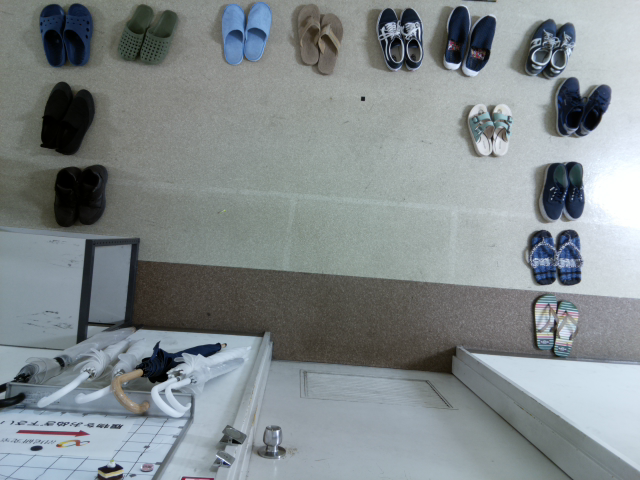Copy of Copy of Copy of Copy of Copy of Copy of Copy of Copy of Copy of shoes: (543, 77, 583, 137)
Copy of Copy of Copy of Copy of Copy of Copy of Copy of Copy of shoes: (574, 81, 611, 137)
Copy of Copy of Copy of Copy of Copy of Copy of Copy of sandal: (553, 299, 579, 357)
Copy of Copy of Copy of Copy of Copy of Copy of Copy of shoes: (542, 21, 577, 77)
Copy of Copy of Copy of Copy of Copy of Copy of sandal: (533, 293, 559, 350)
Copy of Copy of Copy of Copy of Copy of Copy of shoes: (524, 17, 559, 75)
Copy of Copy of Copy of Copy of Copy of sandal: (557, 228, 583, 286)
Copy of Copy of Copy of Copy of Copy of shoes: (461, 12, 498, 77)
Copy of Copy of Copy of Copy of sandal: (525, 228, 557, 285)
Copy of Copy of Copy of Copy of shoes: (442, 3, 472, 69)
Copy of Copy of Copy of sandal: (297, 2, 321, 65)
Copy of Copy of Copy of shoes: (41, 79, 75, 149), (401, 5, 424, 70)
Copy of Copy of Copy of slipper: (244, 1, 272, 62)
Copy of Copy of sandal: (316, 12, 344, 75)
Copy of Copy of shoes: (55, 87, 96, 155), (375, 6, 404, 72)
Copy of Copy of slipper: (220, 3, 246, 66)
Copy of sandal: (492, 102, 515, 156)
Copy of shoes: (79, 164, 109, 225), (563, 161, 585, 221)
Copy of slipper: (140, 8, 176, 64)
sandal: (466, 102, 493, 156)
shoes: (53, 165, 83, 226), (537, 162, 564, 222)
slipper: (117, 4, 153, 62), (37, 3, 68, 67), (65, 2, 92, 66)
